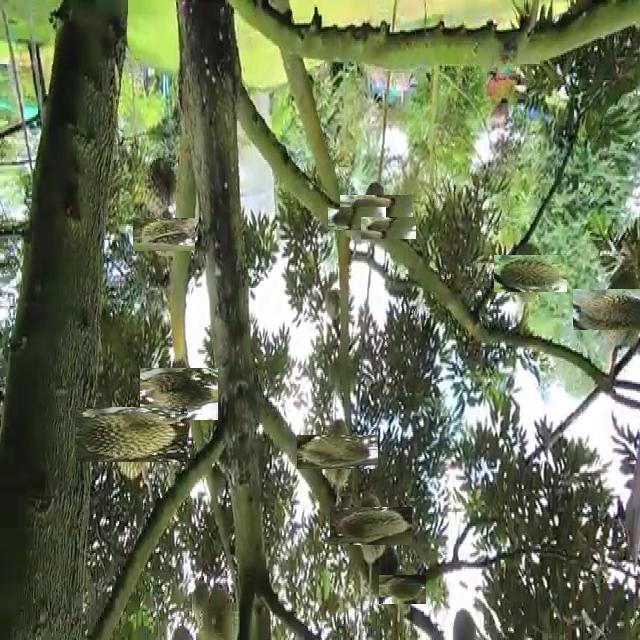durian: (90, 393, 173, 476), (146, 361, 212, 426), (340, 496, 401, 556), (586, 276, 640, 343), (309, 423, 367, 481), (502, 246, 558, 301), (140, 153, 180, 220), (352, 183, 401, 232), (140, 211, 189, 258), (336, 199, 377, 239), (369, 209, 408, 248), (383, 570, 422, 608), (450, 599, 482, 640)
